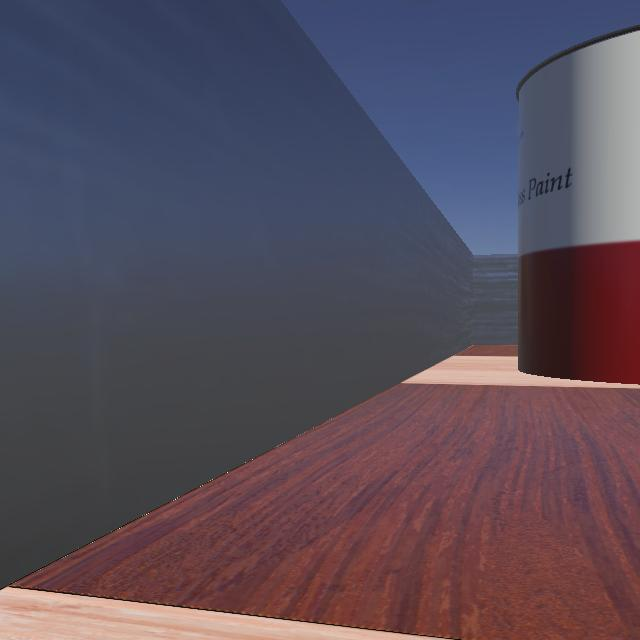paint-bucket: (480, 0, 640, 392)
